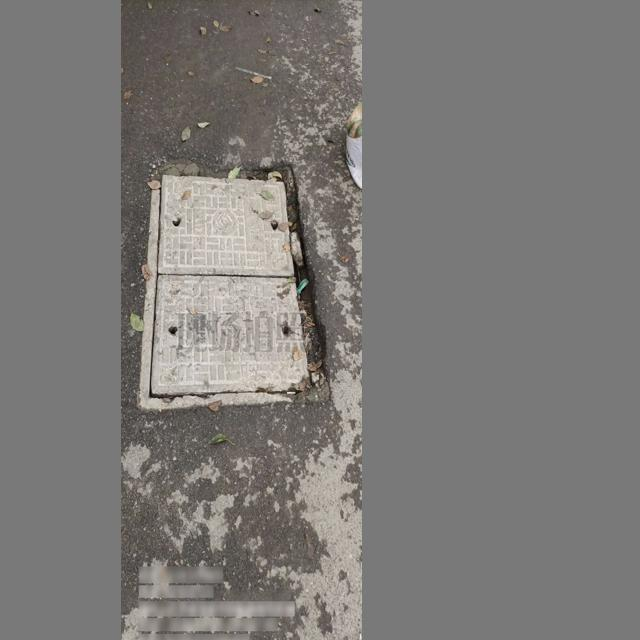circle: (141, 164, 331, 409)
